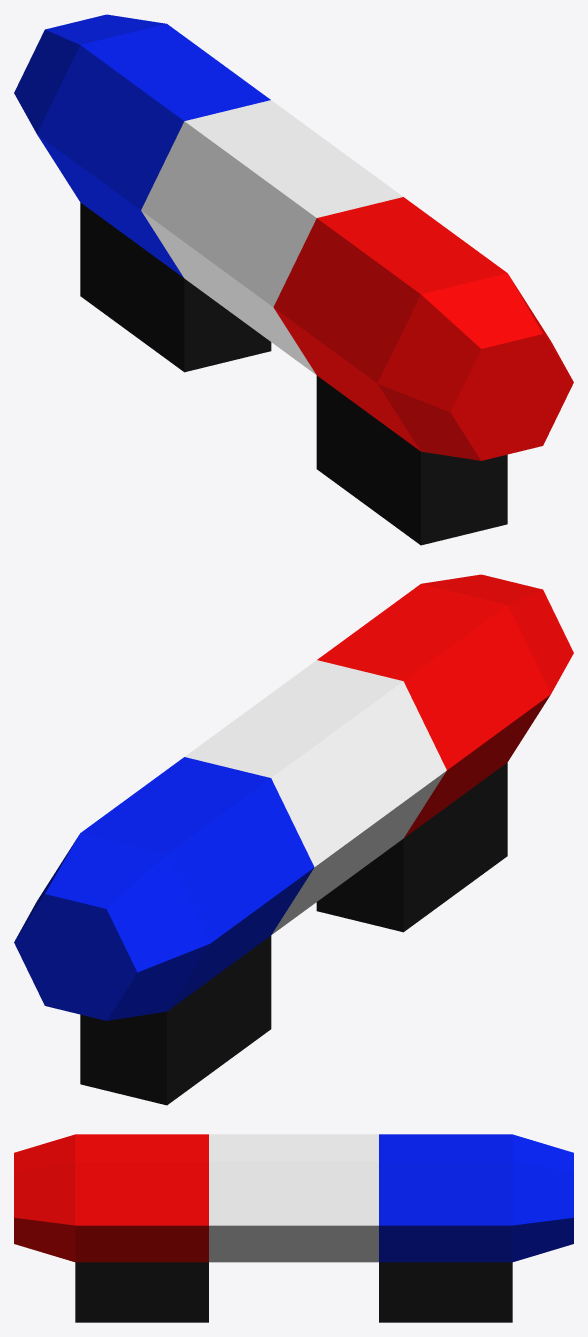
The model's file is Siren.fbx.
3 views of the same model, one above another, from view 1: azimuth 30°, elevation 25°; view 2: azimuth 150°, elevation 25°; view 3: azimuth 270°, elevation 25° (orthographic). The views are drawn at different scales.
Parts seen in each view (by area): view 1: Cylinder; view 2: Cylinder; view 3: Cylinder.
Part boxes in pixels (bbox=[...]): Cylinder: bbox=[14, 14, 573, 545]; Cylinder: bbox=[14, 574, 573, 1105]; Cylinder: bbox=[14, 1134, 573, 1322].
Bounding box in the file's own units: 102 × 140 × 442.
